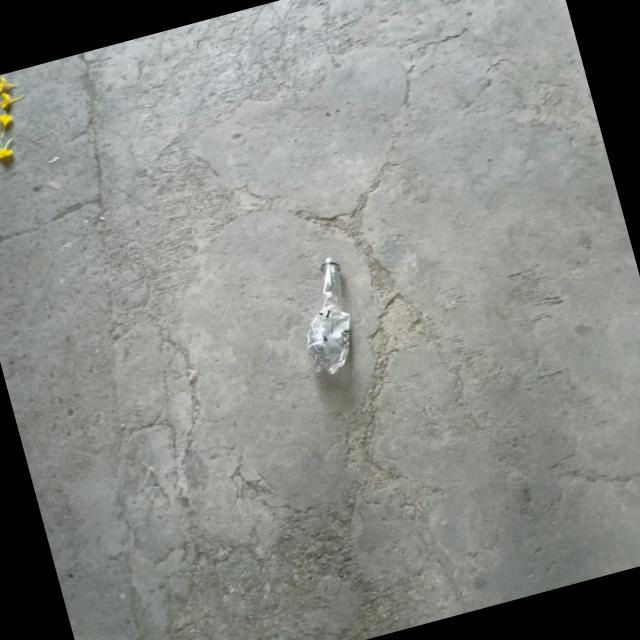Bottle: (307, 257, 351, 374)
